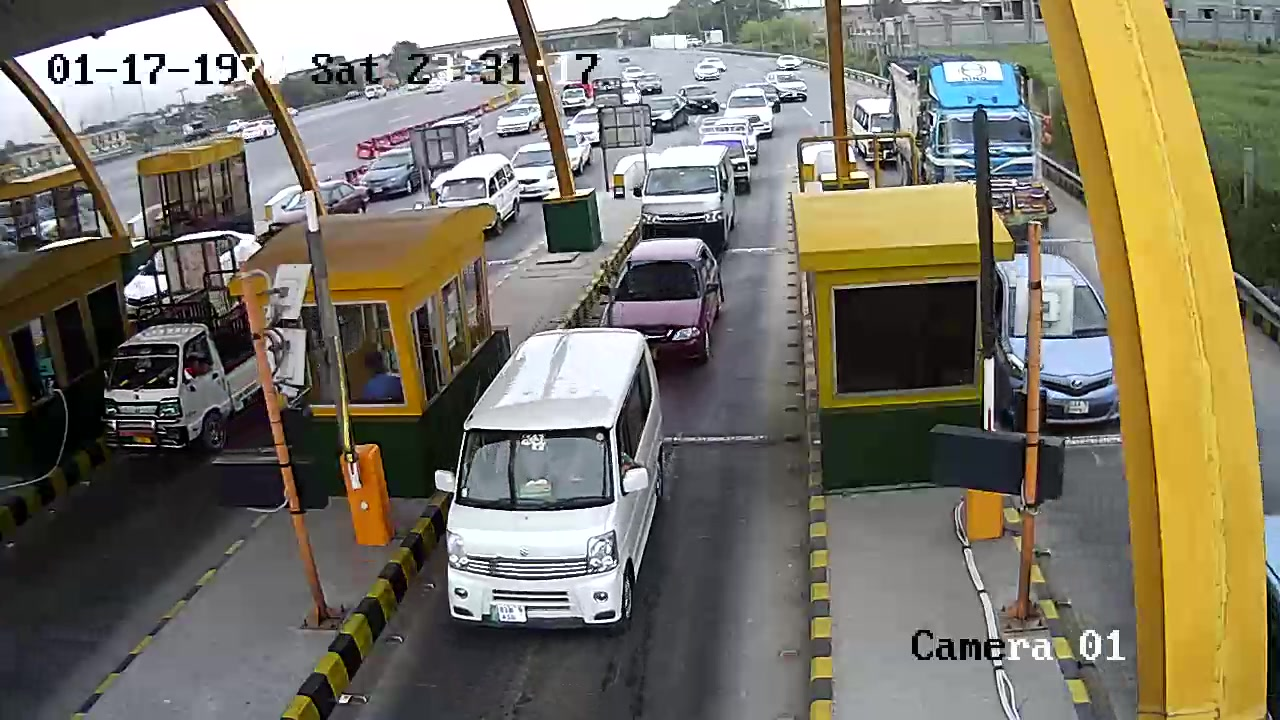F1: (438, 326, 679, 632)
